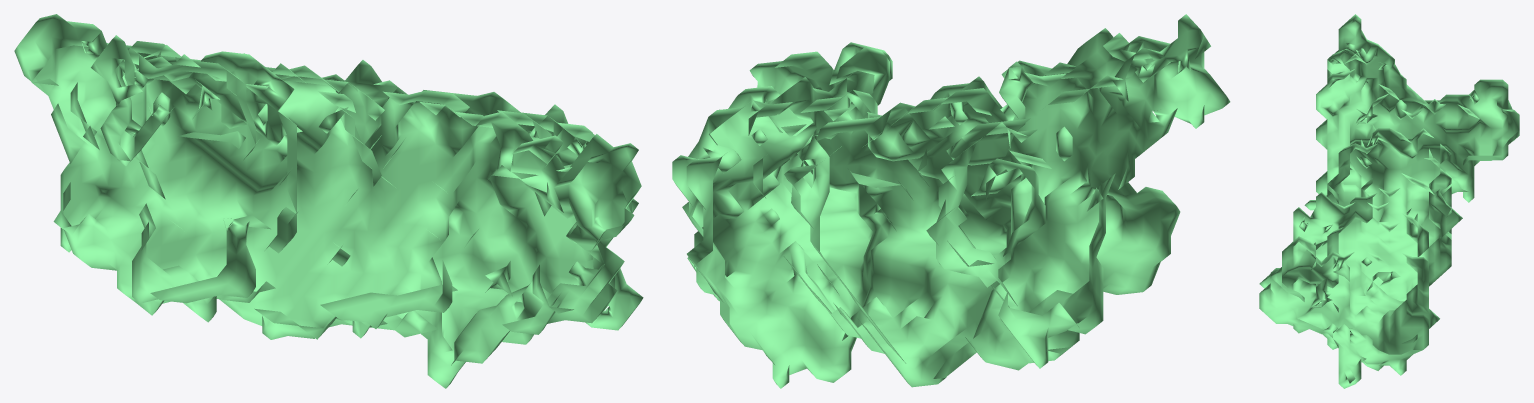
Rendered from osteocyte_119.glb.
3 views of the same model, side by side, from view 1: azimuth 30°, elevation 25°; view 2: azimuth 150°, elevation 25°; view 3: azimuth 270°, elevation 25° (orthographic). The views are drawn at different scales.
Parts seen in each view (by area): view 1: osteocyte_119; view 2: osteocyte_119; view 3: osteocyte_119.
Boxes of the visible parts, x1=… form: osteocyte_119: x1=14, y1=14, x2=643, y2=388; osteocyte_119: x1=672, y1=14, x2=1230, y2=388; osteocyte_119: x1=1259, y1=14, x2=1519, y2=388.
Bounding box in the file's own units: 15.41 × 12.04 × 11.07.
